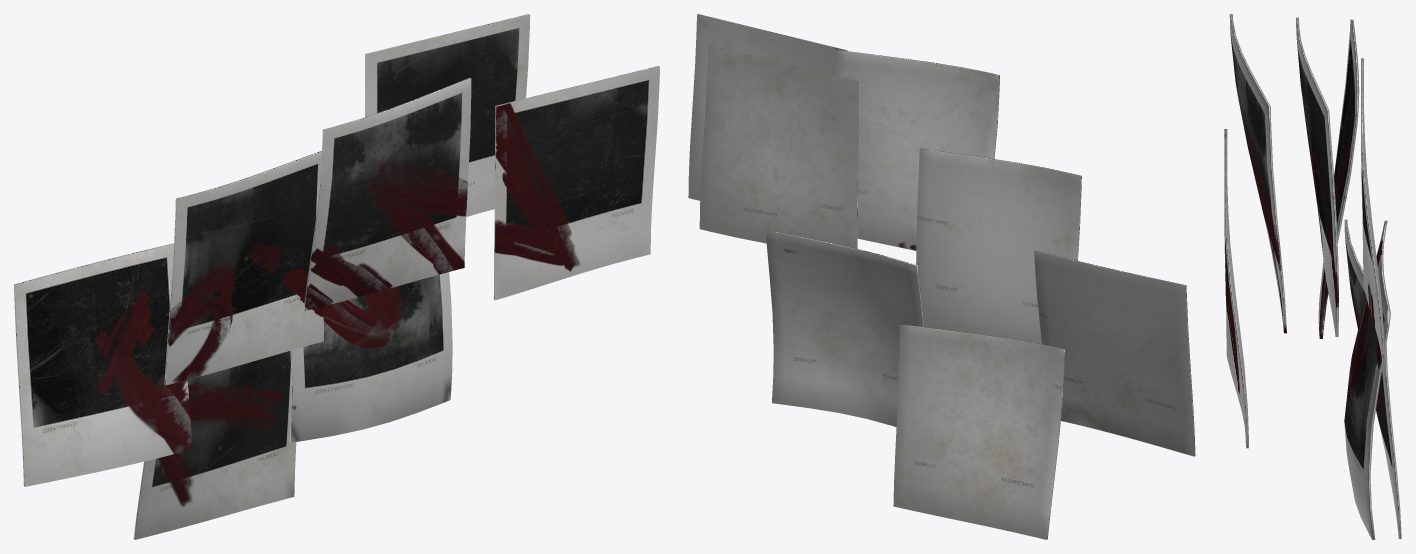
Rendered from polaroid_pictures.glb.
The picture shows the model from 3 angles, left to right: view 1: azimuth 30°, elevation 25°; view 2: azimuth 150°, elevation 25°; view 3: azimuth 270°, elevation 25°; orthographic projection. The views are drawn at different scales.
Parts seen in each view (by area): view 1: photo (×7); view 2: photo (×7); view 3: photo (×7).
Part boxes in pixels (bbox=[...]): photo (×7): bbox=[14, 14, 659, 539]; photo (×7): bbox=[688, 14, 1195, 539]; photo (×7): bbox=[1224, 14, 1401, 539].
Bounding box in the file's own units: 7.21 × 5.13 × 1.61.
1 material, 1 textured.
